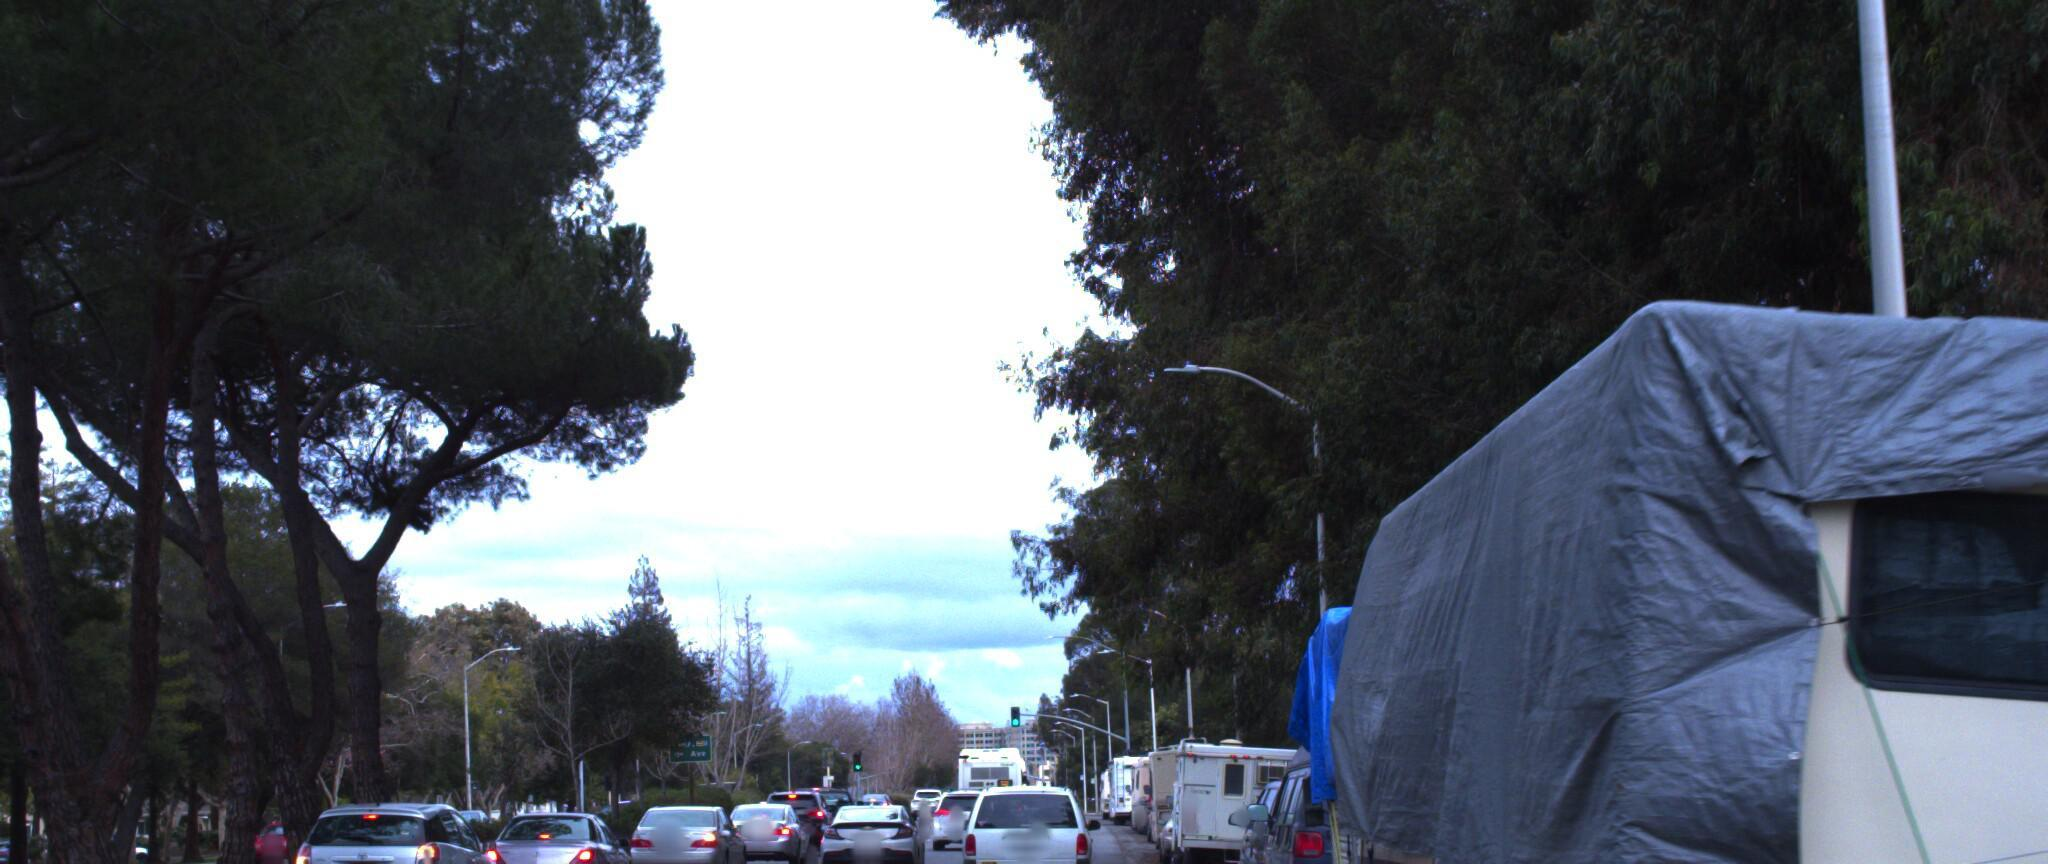car: (1898, 333, 2048, 864), (1241, 694, 1536, 864), (273, 777, 520, 864), (939, 762, 1091, 864), (470, 786, 647, 864), (802, 778, 921, 864), (607, 796, 742, 864), (690, 794, 816, 861), (0, 777, 34, 864)
other_vehicle: (1294, 147, 2048, 864), (1270, 489, 1849, 864), (1152, 724, 1324, 864), (1139, 735, 1253, 851)
